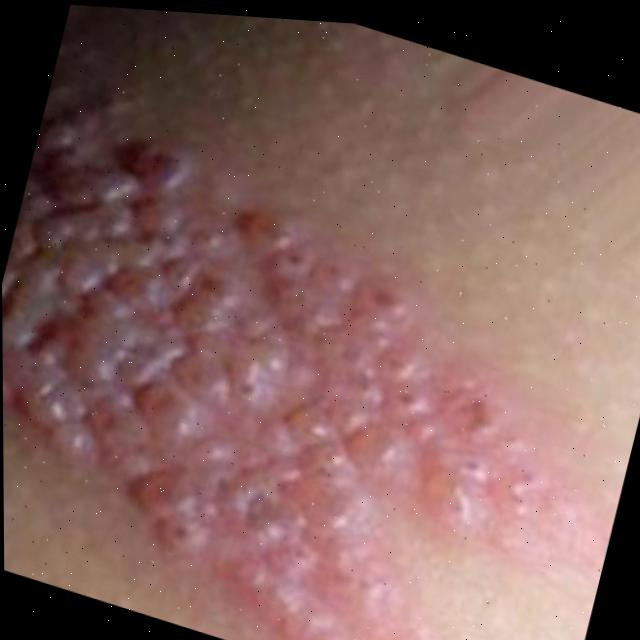Shingles: (0, 33, 633, 640)
